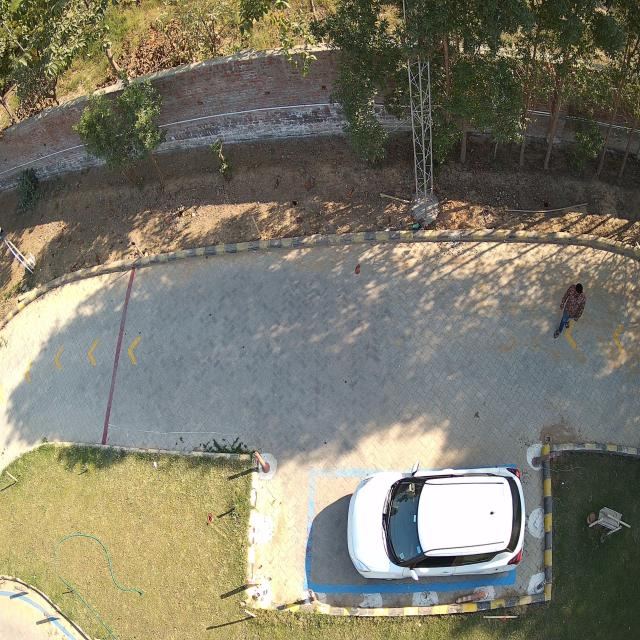car: (348, 465, 525, 580)
